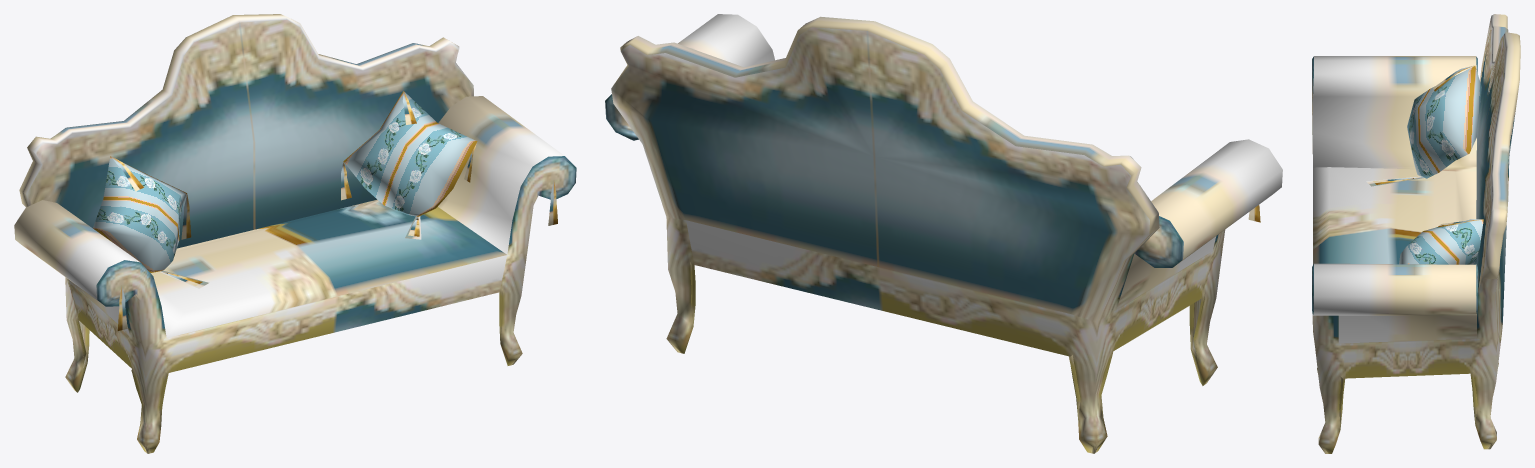
Rendered from int_pri_chairL.dae.
The picture shows the model from 3 angles, left to right: view 1: azimuth 30°, elevation 25°; view 2: azimuth 150°, elevation 25°; view 3: azimuth 270°, elevation 25°; orthographic projection. The views are drawn at different scales.
Parts seen in each view (by area): view 1: int_pri_chairL; view 2: int_pri_chairL; view 3: int_pri_chairL.
Part boxes in pixels (bbox=[...]): int_pri_chairL: bbox=[14, 14, 576, 453]; int_pri_chairL: bbox=[605, 14, 1282, 453]; int_pri_chairL: bbox=[1312, 14, 1520, 453].
Size of the model in its own units: 57.8 by 37.2 by 22.09.
Materials: 2 (2 with a texture image).
